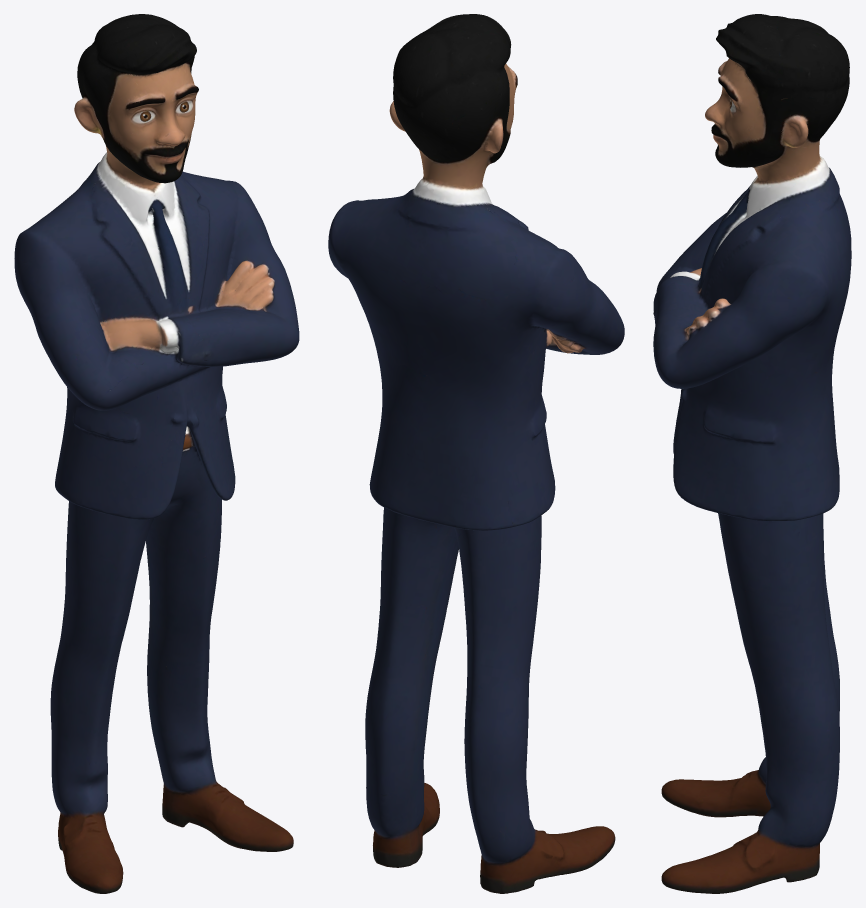
Rendered from suit.glb.
3 views of the same model, side by side, from view 1: azimuth 30°, elevation 25°; view 2: azimuth 150°, elevation 25°; view 3: azimuth 270°, elevation 25° (orthographic). The views are drawn at different scales.
Size of the model in its own units: 0.5902 by 1.9 by 0.4128.
1 material, 1 textured.
